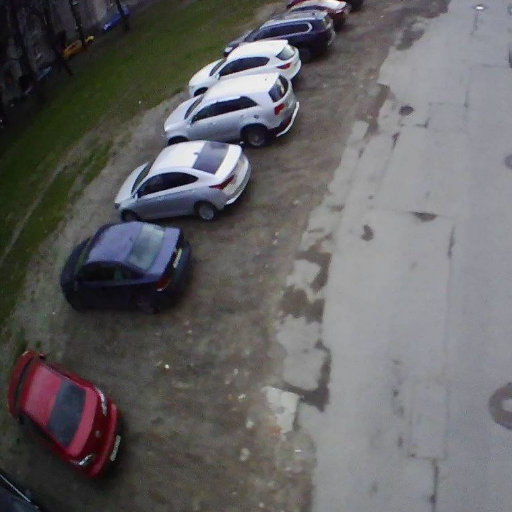Car: (3, 347, 121, 475), (64, 220, 196, 308), (108, 138, 249, 216), (163, 73, 295, 140), (220, 10, 336, 52), (188, 39, 301, 80), (280, 0, 351, 26)
